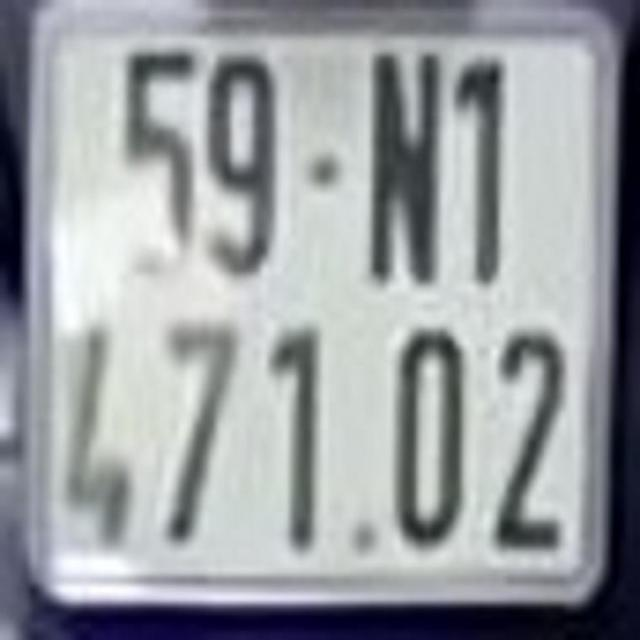0: (394, 324, 467, 548)
1: (263, 331, 332, 552), (454, 56, 508, 286)
2: (493, 328, 566, 554)
4: (63, 322, 133, 552)
5: (120, 51, 196, 272)
7: (166, 318, 237, 540)
9: (207, 56, 282, 282)
N: (370, 48, 444, 283)
